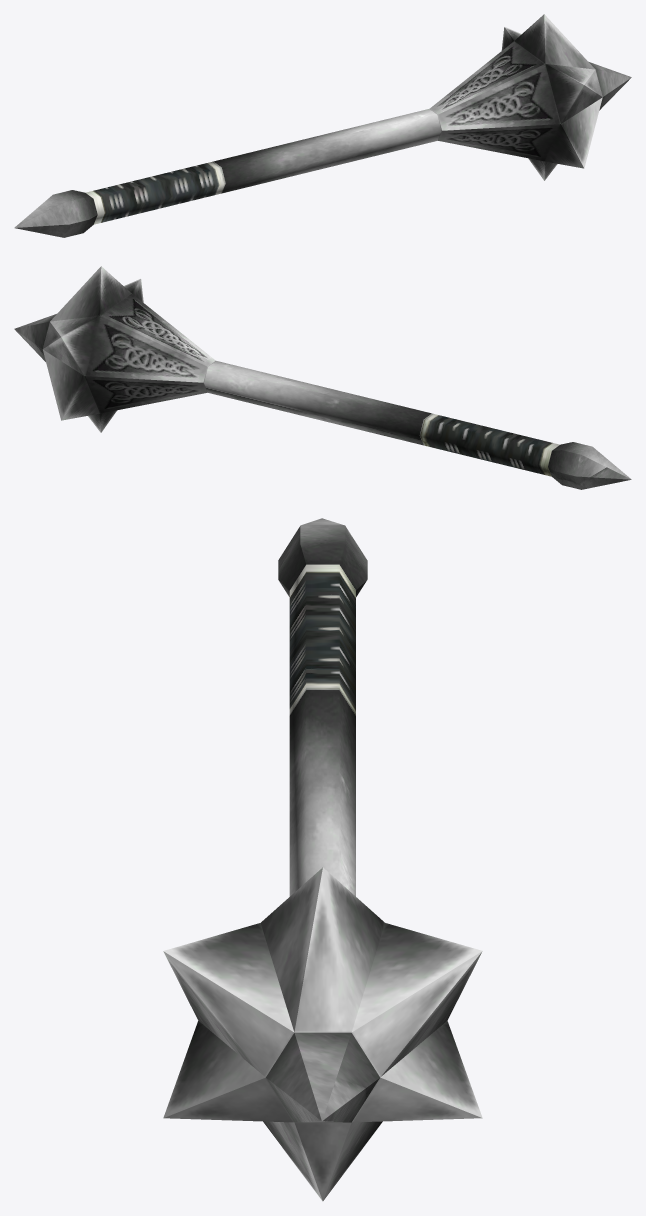
The picture shows the model from 3 angles, top to bottom: view 1: azimuth 30°, elevation 25°; view 2: azimuth 150°, elevation 25°; view 3: azimuth 270°, elevation 25°; orthographic projection. The views are drawn at different scales.
Visible parts, largest first — view 1: it10608; view 2: it10608; view 3: it10608.
Part boxes in pixels (bbox=[...]): it10608: bbox=[14, 14, 631, 237]; it10608: bbox=[14, 266, 631, 489]; it10608: bbox=[163, 518, 482, 1201].
Bounding box in the file's own units: 2.16 × 0.5573 × 0.4828.
3 materials, 3 textured.
